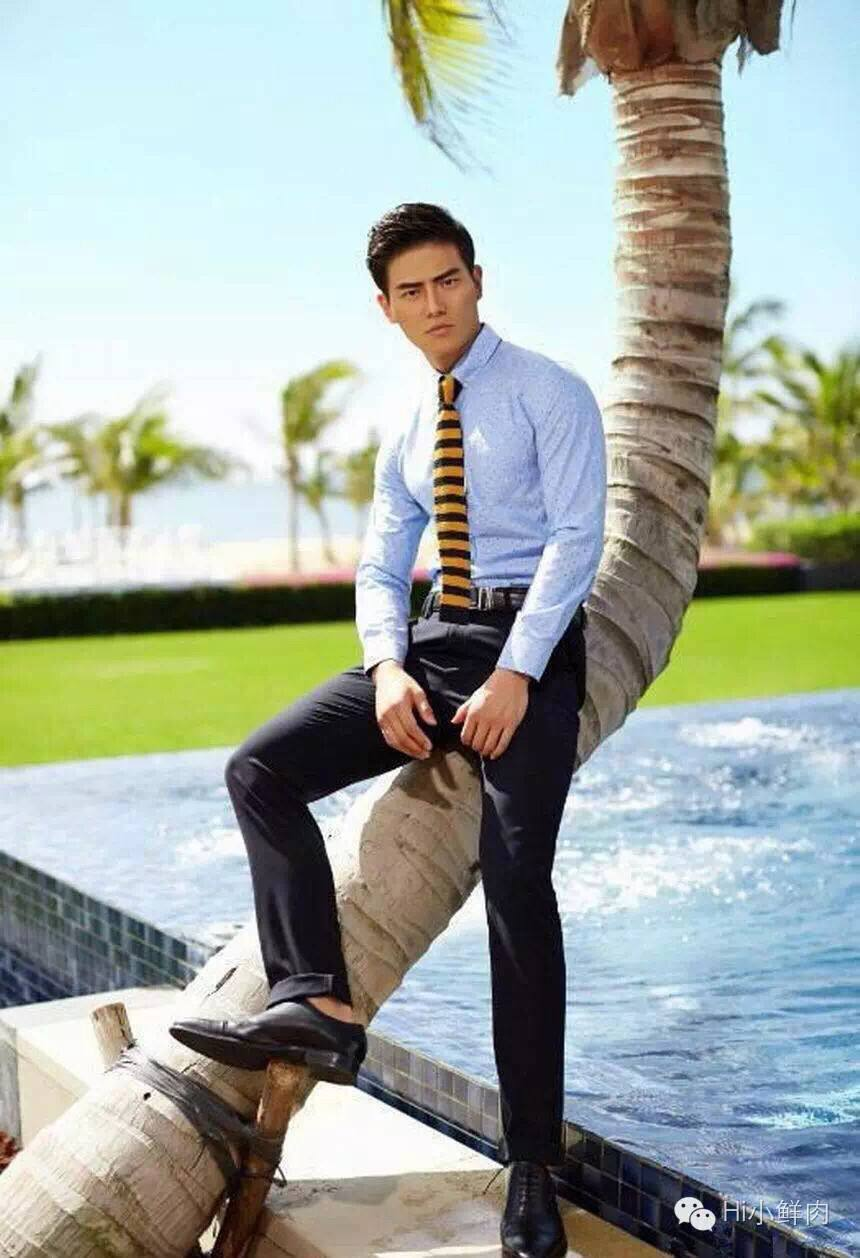person: (203, 220, 681, 1258)
